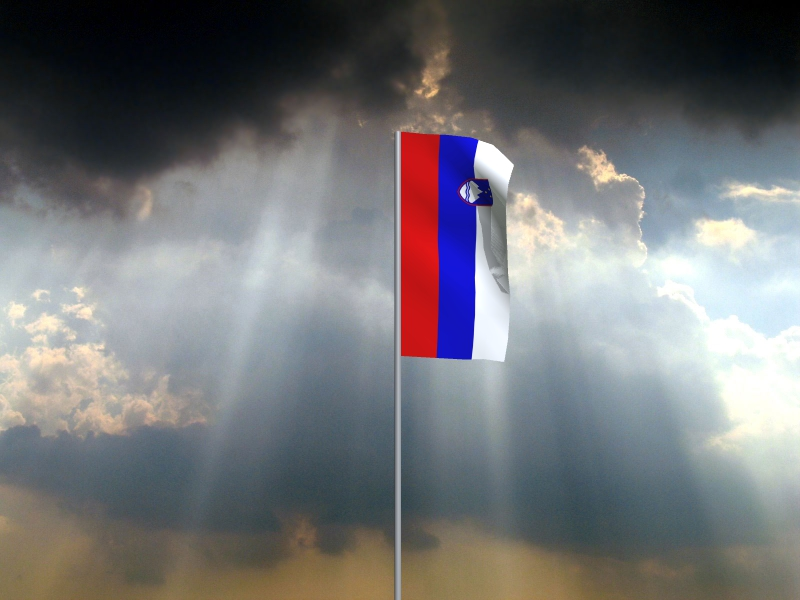si: (400, 133, 515, 363)
